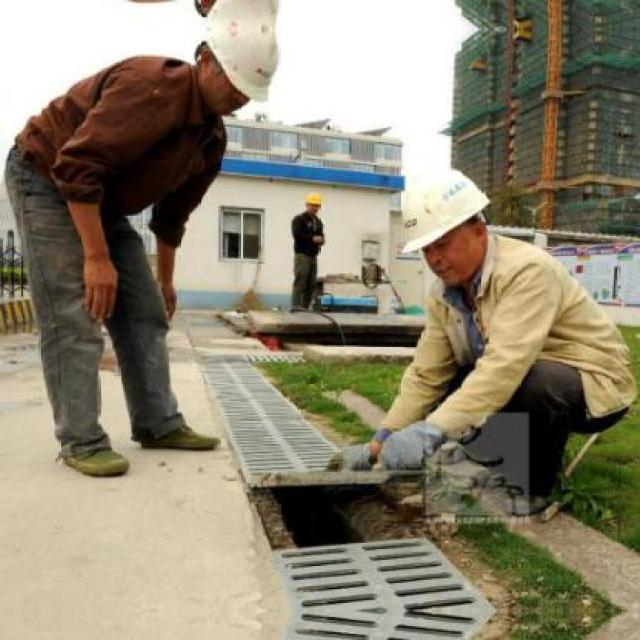helmet: (392, 154, 498, 292), (188, 34, 288, 122), (188, 0, 289, 25), (294, 184, 324, 215)
